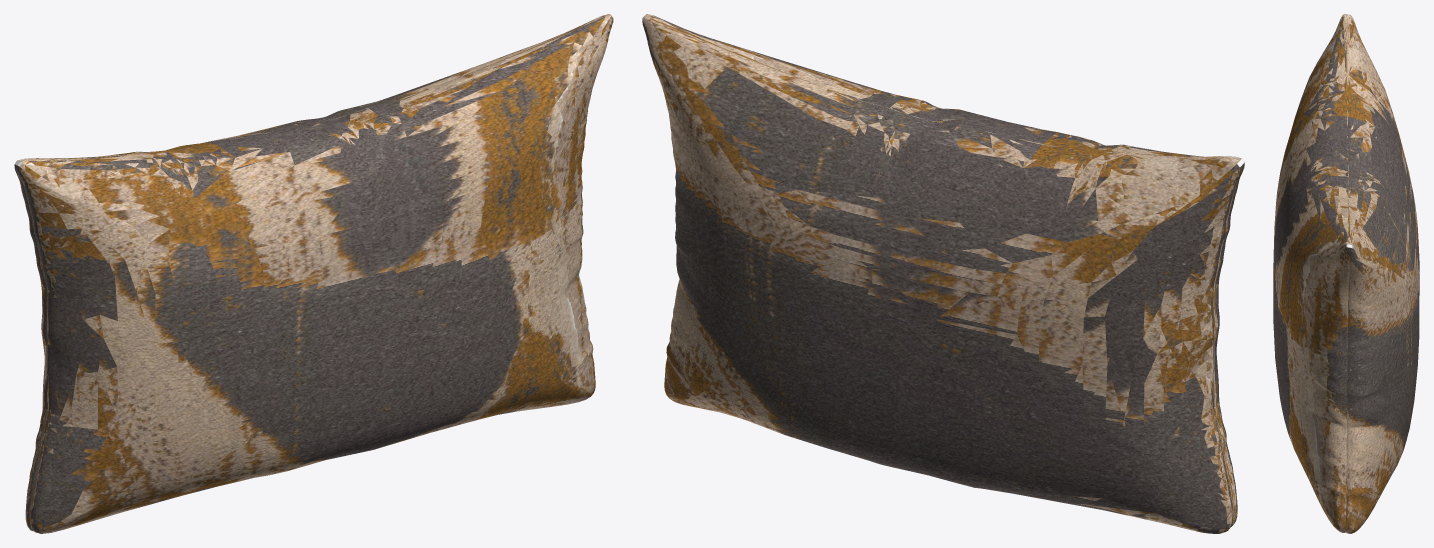
Rendered from Avana_ChevronCushion-Lumbar.glb.
3 views of the same model, side by side, from view 1: azimuth 30°, elevation 25°; view 2: azimuth 150°, elevation 25°; view 3: azimuth 270°, elevation 25° (orthographic). The views are drawn at different scales.
Parts seen in each view (by area): view 1: Component#196; view 2: Component#196; view 3: Component#196.
Part boxes in pixels (left/top/right/bottom): Component#196: left=14, top=14, right=613, bottom=533; Component#196: left=642, top=14, right=1244, bottom=533; Component#196: left=1273, top=14, right=1419, bottom=533.
Size of the model in its own units: 0.6268 by 0.3786 by 0.1664.
2 materials, 1 textured.
